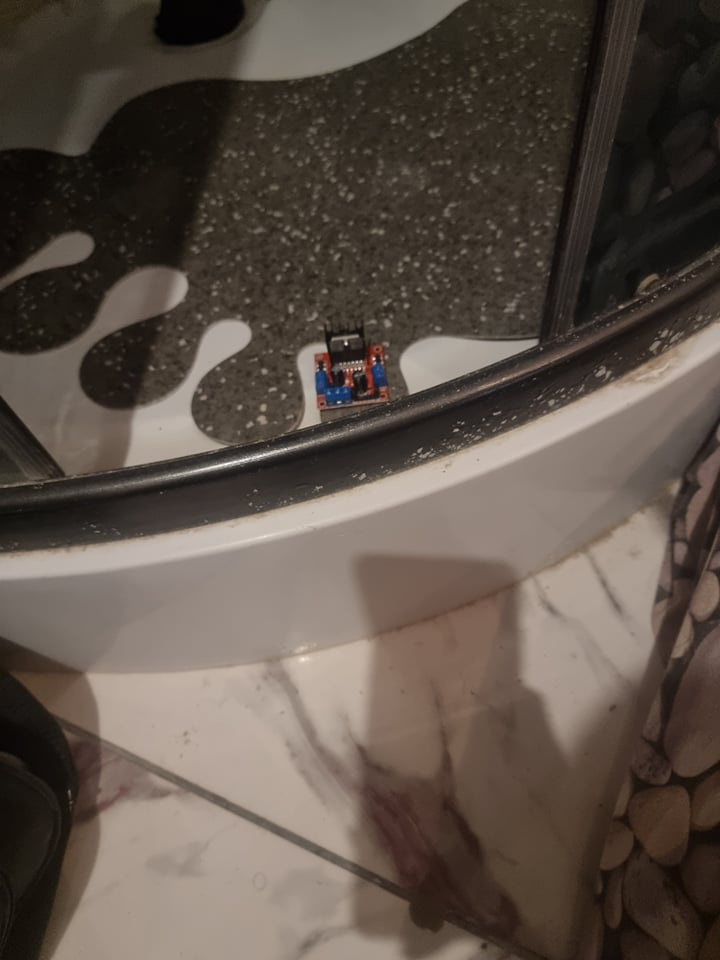MOTOR: (313, 319, 391, 411)
